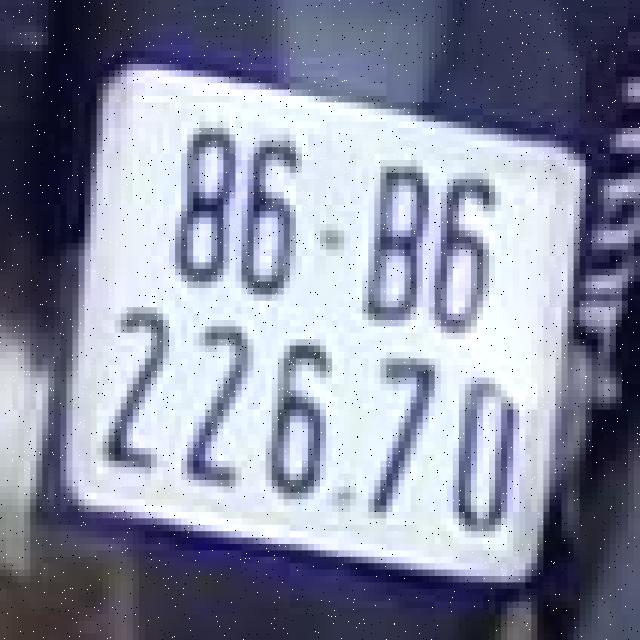0: (453, 368, 519, 541)
2: (184, 320, 251, 493), (103, 301, 163, 474)
6: (263, 333, 329, 499), (435, 176, 495, 336), (247, 134, 302, 301)
7: (365, 349, 444, 528)
8: (175, 118, 236, 292)
B: (365, 163, 426, 323)
